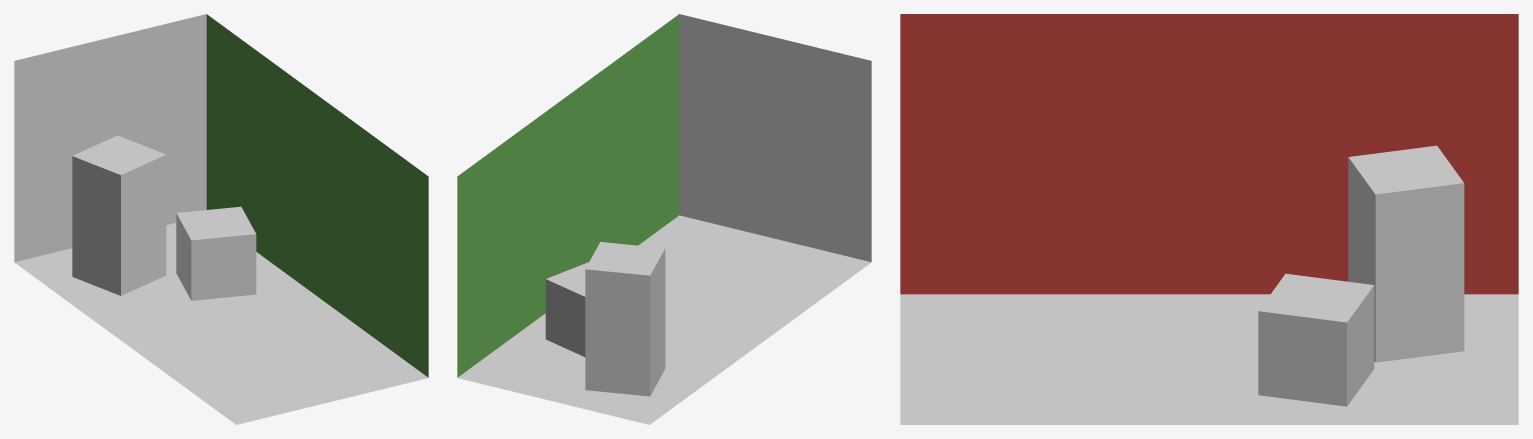
File: cornell_box.gltf
3 renders of one model, left to right at view 1: azimuth 30°, elevation 25°; view 2: azimuth 150°, elevation 25°; view 3: azimuth 270°, elevation 25°, orthographic. The views are drawn at different scales.
Parts seen in each view (by area): view 1: CornellBox; view 2: CornellBox; view 3: CornellBox.
Part boxes in pixels (x1,y1,x2,y2): CornellBox: [14, 14, 428, 424]; CornellBox: [457, 14, 871, 424]; CornellBox: [900, 14, 1518, 424].
Size of the model in its own units: 5.5 by 5.5 by 11.
